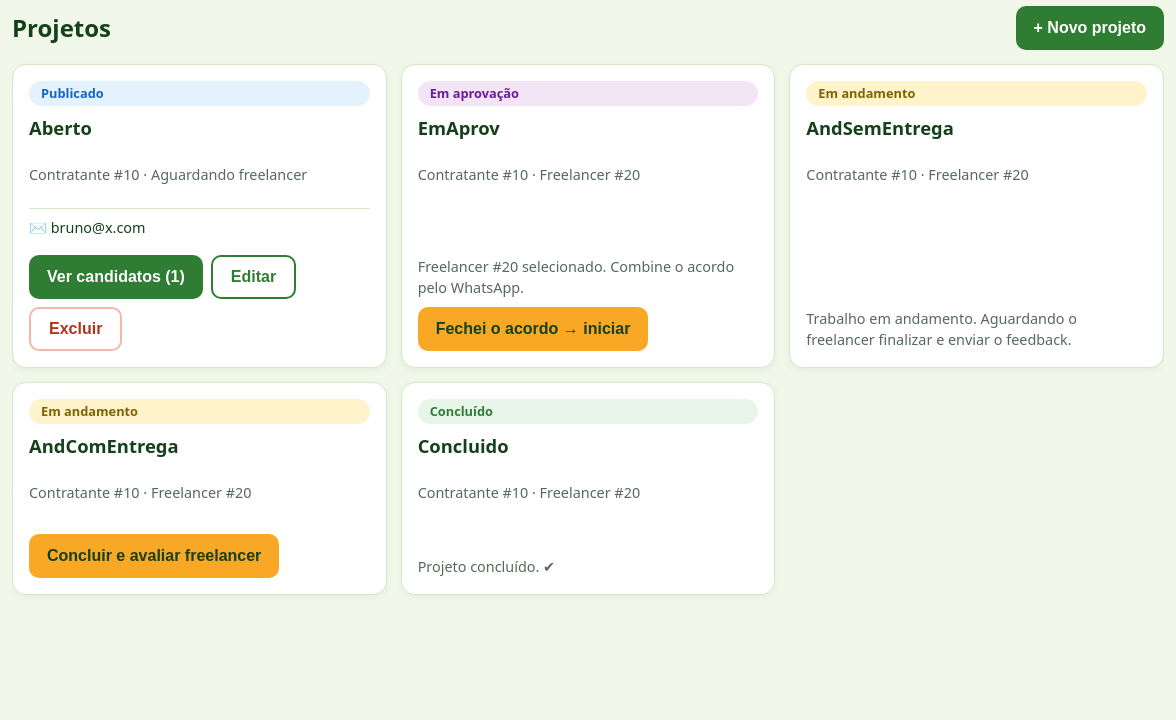
Test case: @interface Projetos — contratante › mostra erro quando uma ação (iniciar andamento) falha
Expected: the heading "EmAprov" is shown, [418,115,500,140]
Click the button with test id "iniciar-andamento" at (533, 329), box [418,307,648,351]
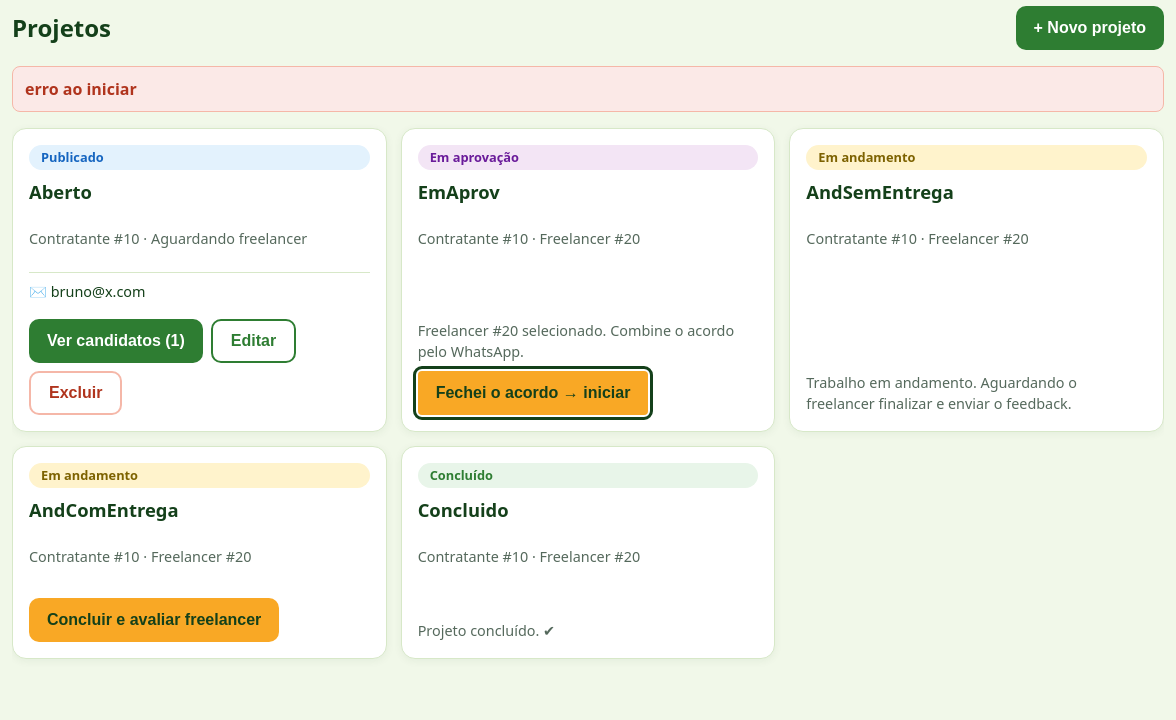
Now the text "erro ao iniciar" is shown, box [12,66,1164,112]
